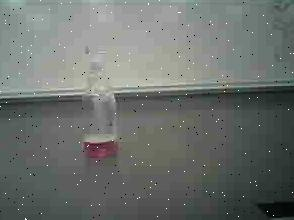hazard: (74, 41, 124, 162)
